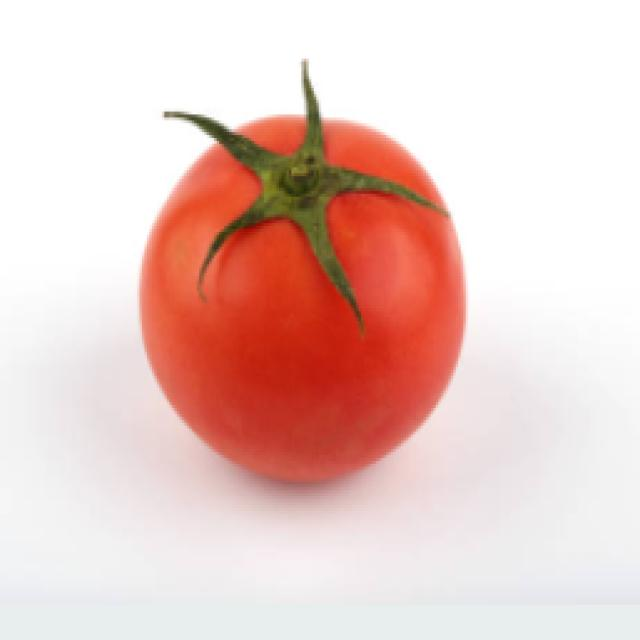Tomato: (121, 80, 480, 498)
